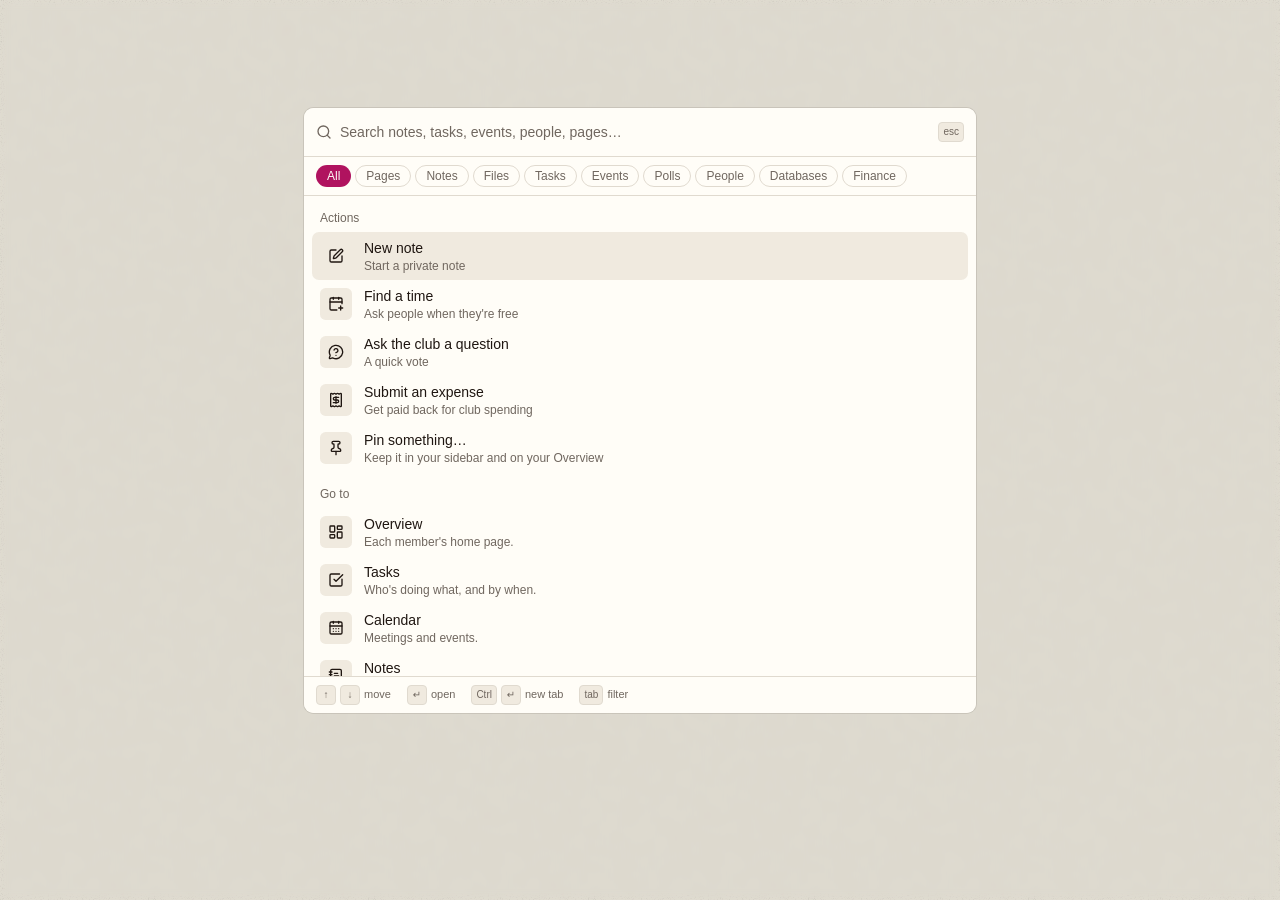
CommandPalette › keeps the newest answer when an older request comes back late
Type "gal" into the dropdown at (635, 132), box [340,108,930,156]
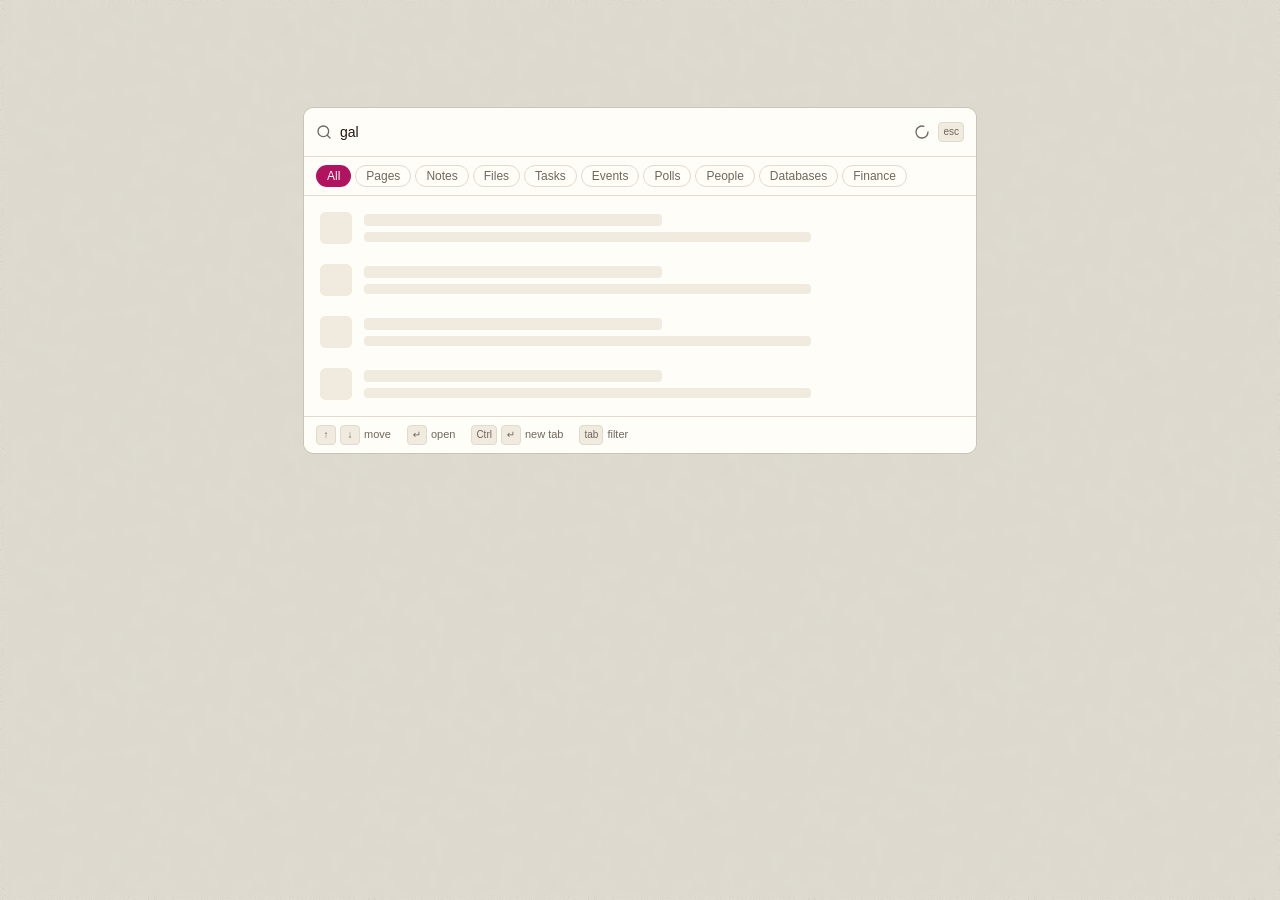
Replace the text in the dropdown with "gala" at (623, 132), box [340,108,906,156]
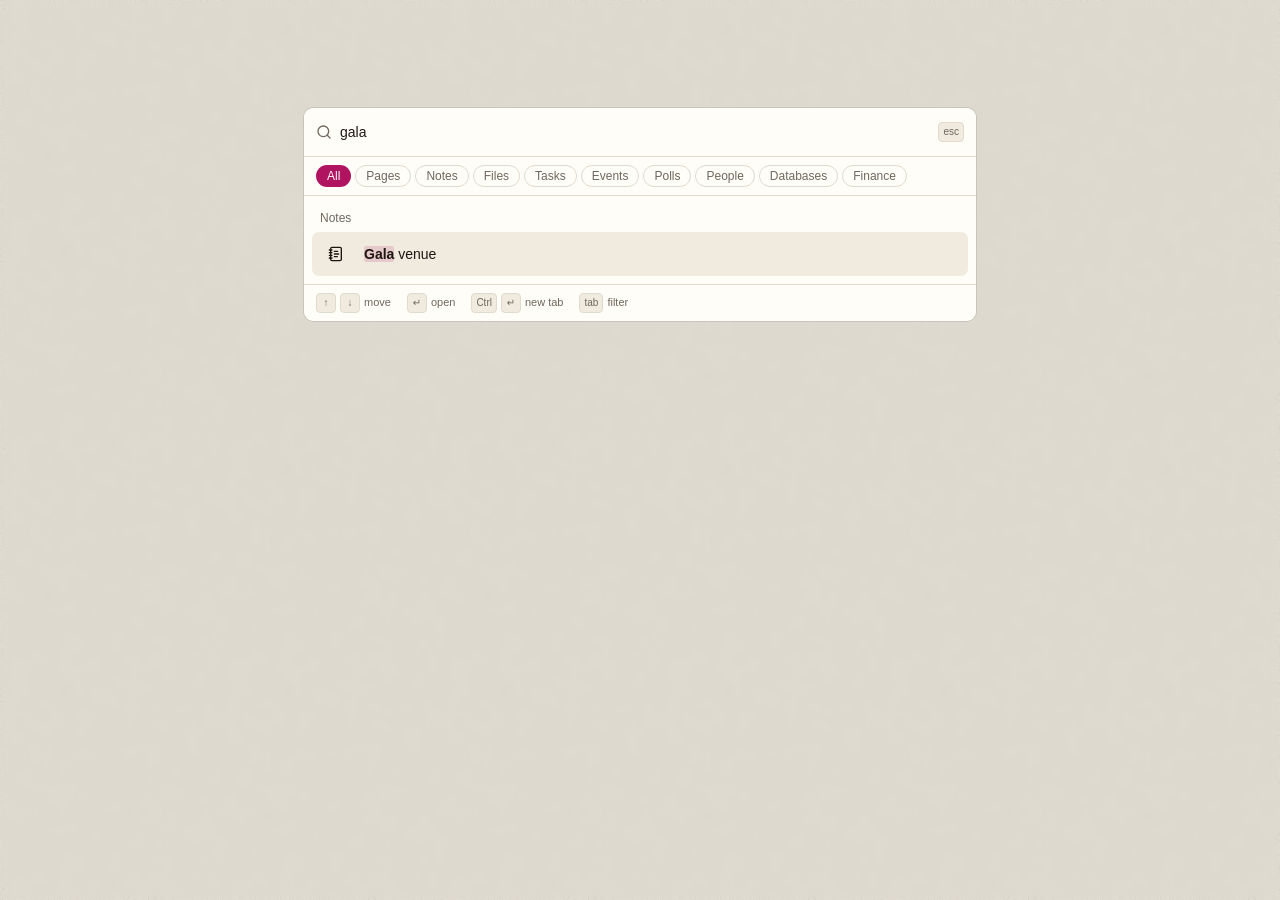
Check: the text "venue" is shown, box [394,246,436,262]
